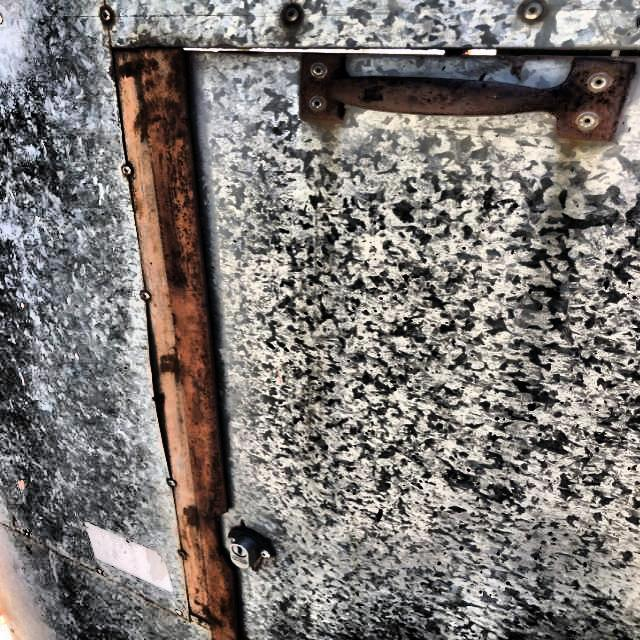Uniform Corrosion: (111, 47, 639, 639)
